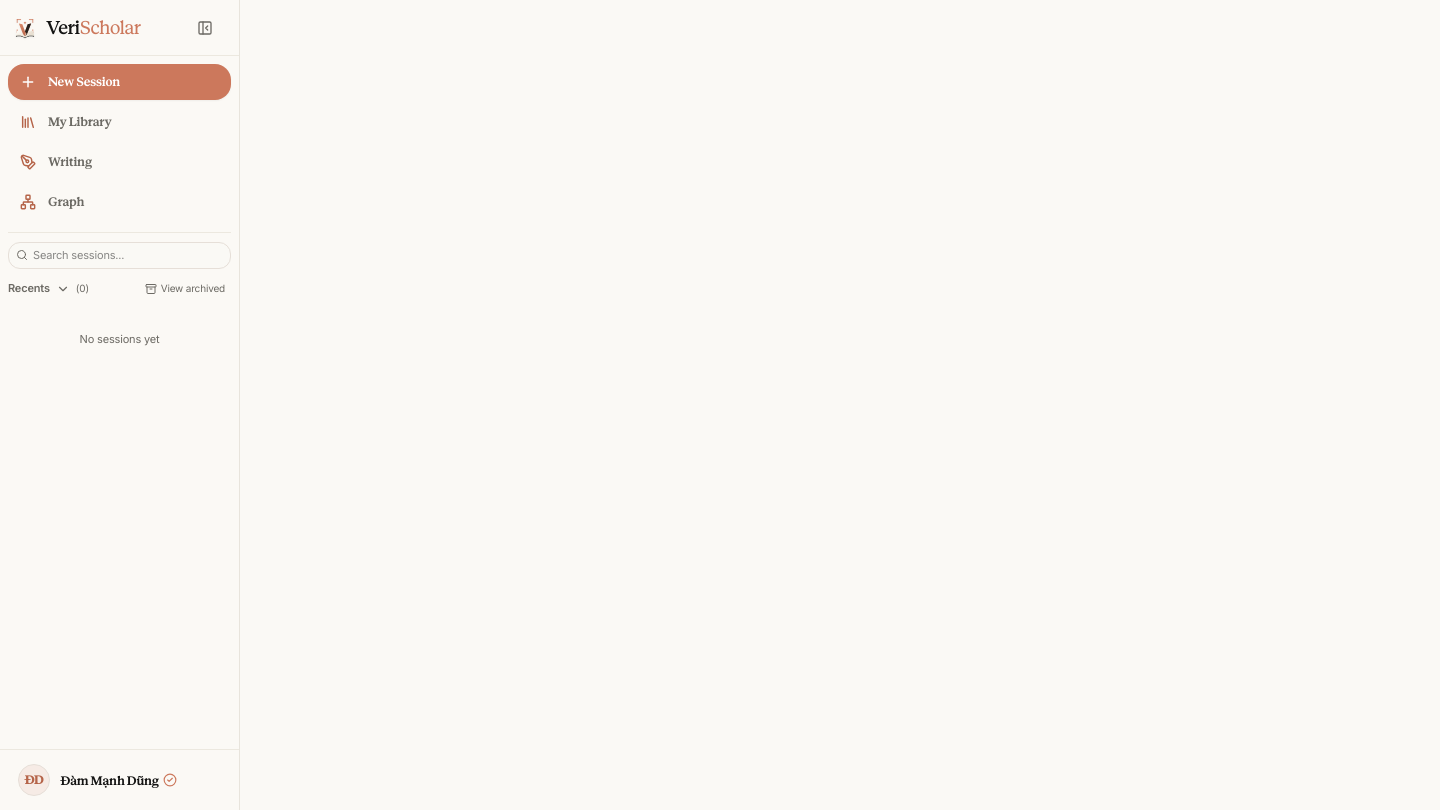
Scenario: DashboardTaskbar Component › toggles floating avatar popover when clicking avatar button
Click the button with test id "taskbar-avatar-btn" at (120, 780), box [8, 758, 231, 802]
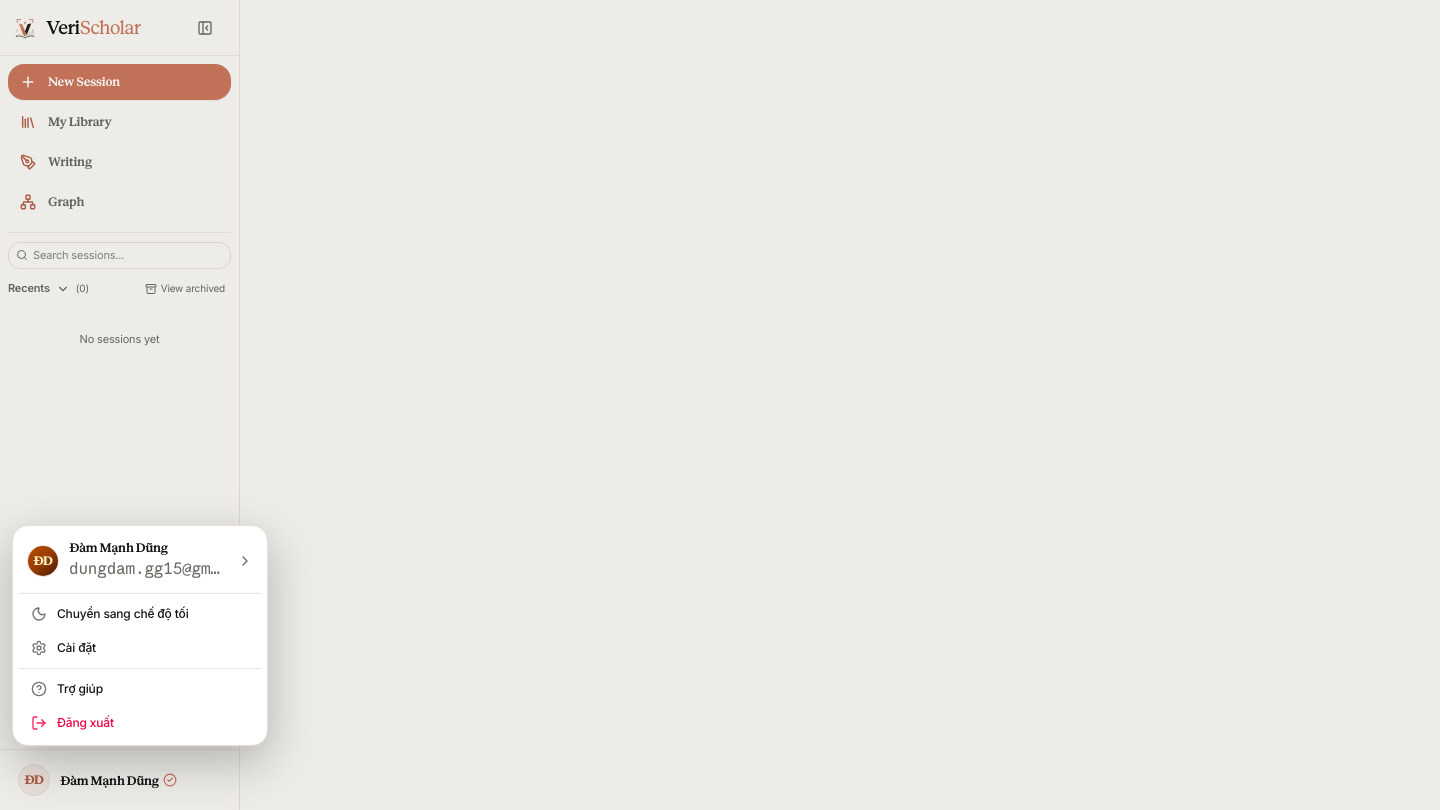
Expected: the menu with test id "avatar-dropdown-popover" is shown, [12, 525, 268, 746]
Note: Clicking backdrop cleanly closes it
Click the element with test id "avatar-popover-backdrop" at (720, 405), box [0, 0, 1439, 809]
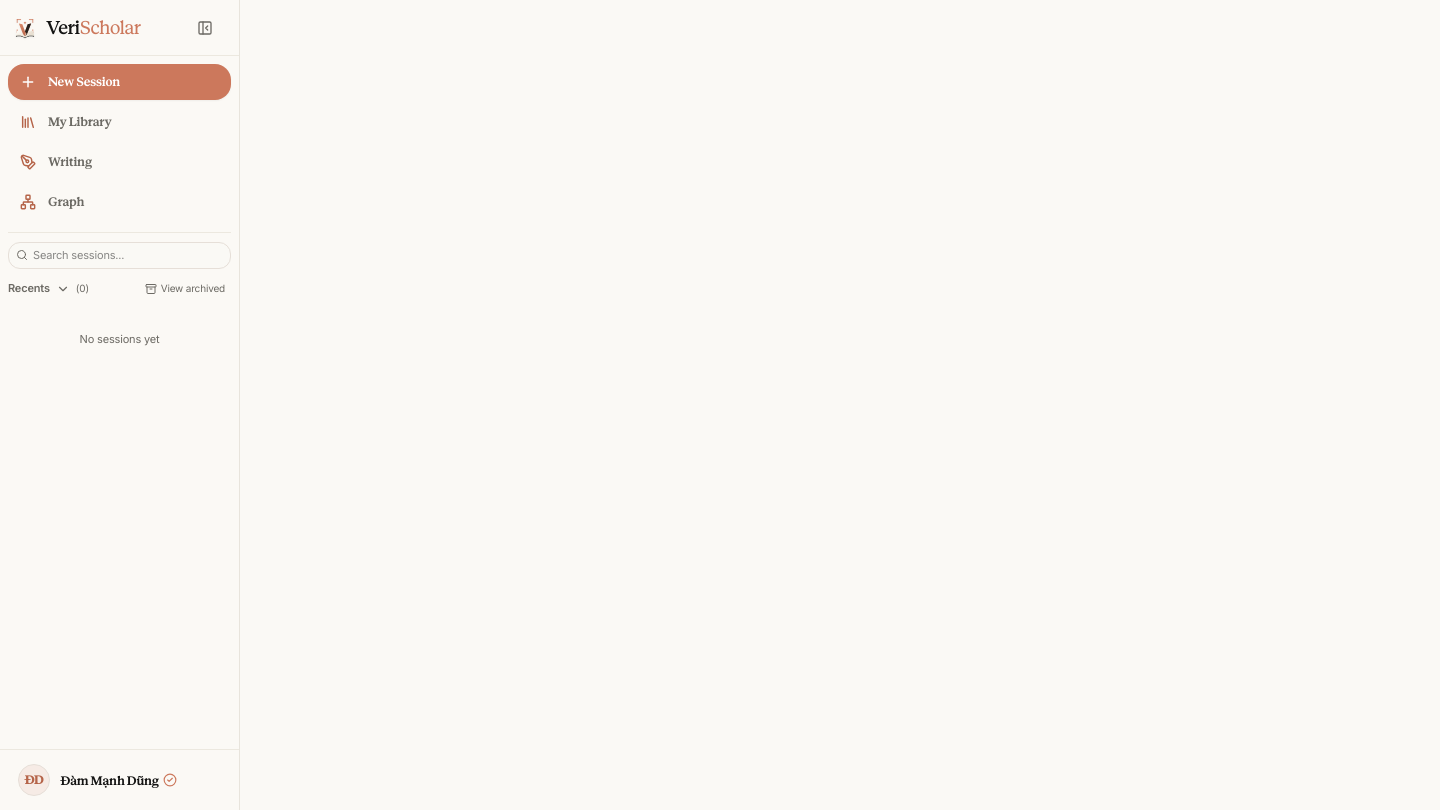
Expected: the menu with test id "avatar-dropdown-popover" is gone
